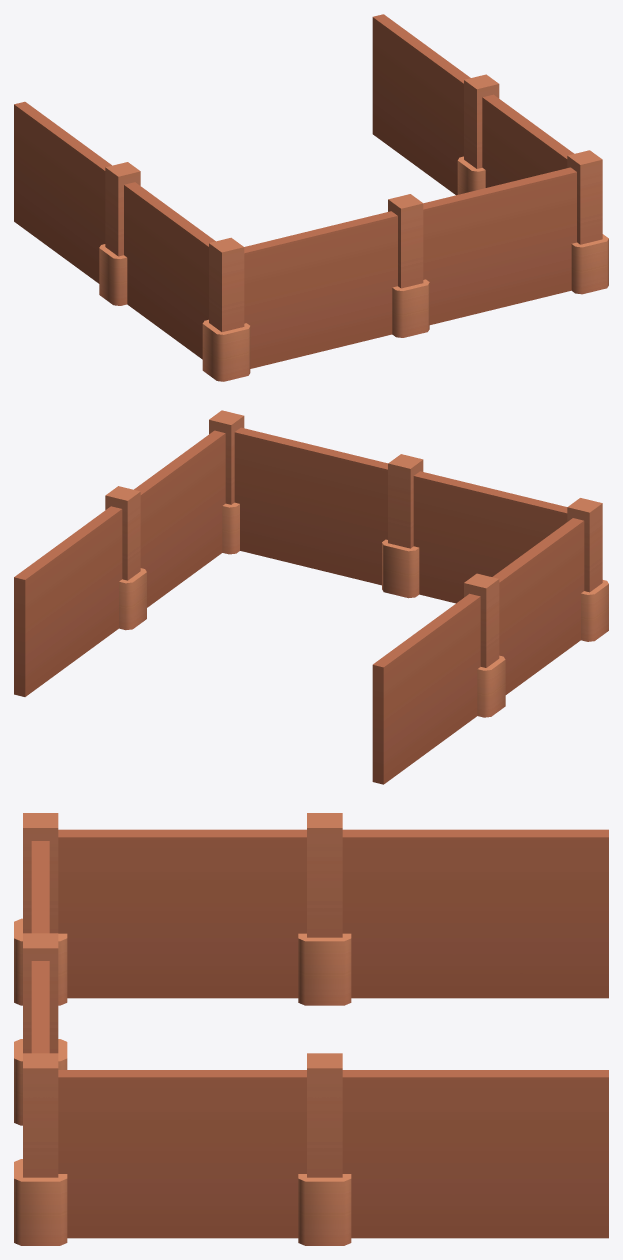
The model's file is sub-fence-2x2.glb.
3 views of the same model, one above another, from view 1: azimuth 30°, elevation 25°; view 2: azimuth 150°, elevation 25°; view 3: azimuth 270°, elevation 25° (orthographic). The views are drawn at different scales.
Visible parts, largest first — view 1: fence-2x2; view 2: fence-2x2; view 3: fence-2x2.
Boxes of the visible parts, bbox=[...] form: fence-2x2: bbox=[14, 14, 608, 381]; fence-2x2: bbox=[14, 410, 608, 784]; fence-2x2: bbox=[14, 813, 608, 1245].
Bounding box in the file's own units: 8.75 × 2.7 × 8.38.
1 material, 1 textured.
